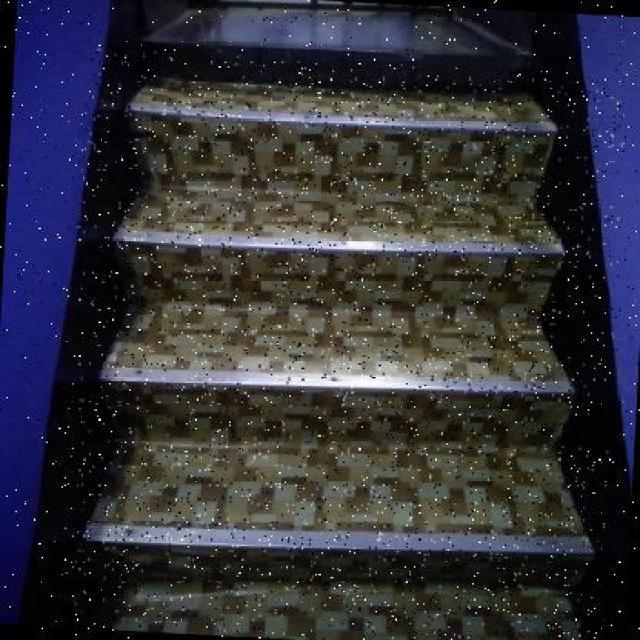Stairs: (120, 29, 574, 614)
